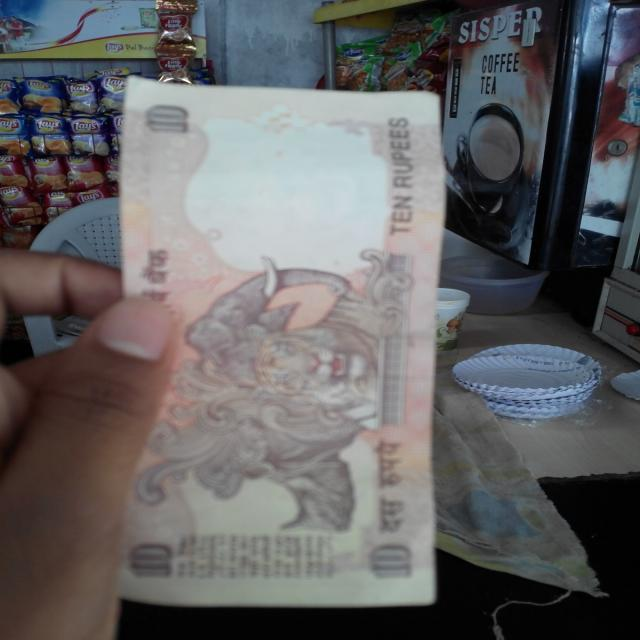10rs: (121, 77, 439, 608)
